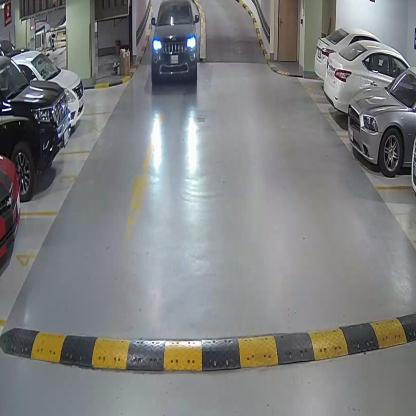np: (170, 54, 178, 66)
